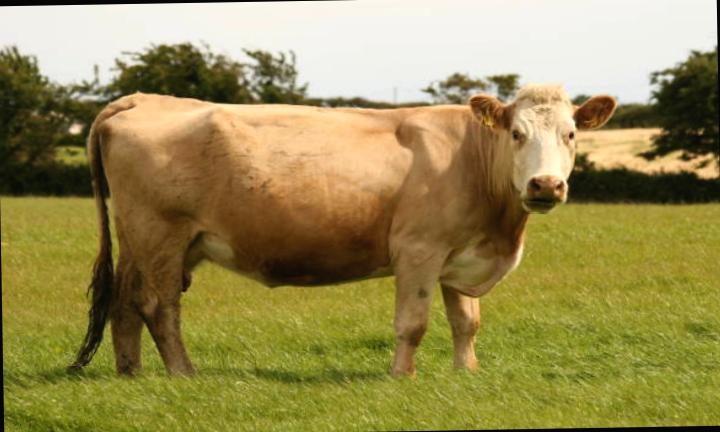Charolais: (74, 85, 615, 373)
